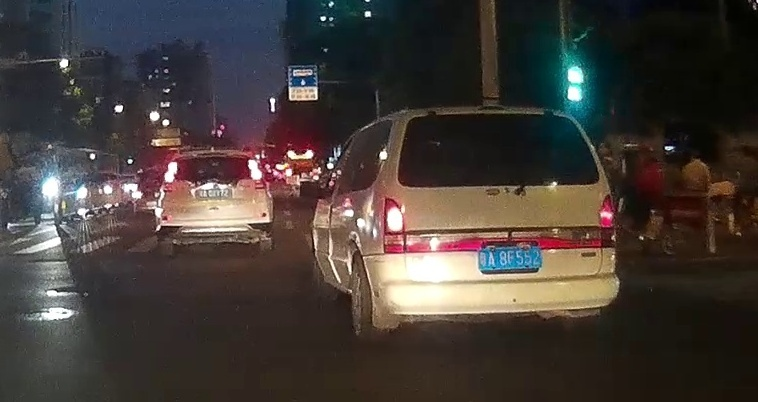day-no: (383, 106, 618, 338), (156, 149, 273, 255), (477, 247, 542, 270), (383, 198, 405, 253), (598, 193, 616, 247), (247, 159, 265, 189), (162, 162, 178, 192), (478, 113, 509, 122), (205, 156, 220, 161)
